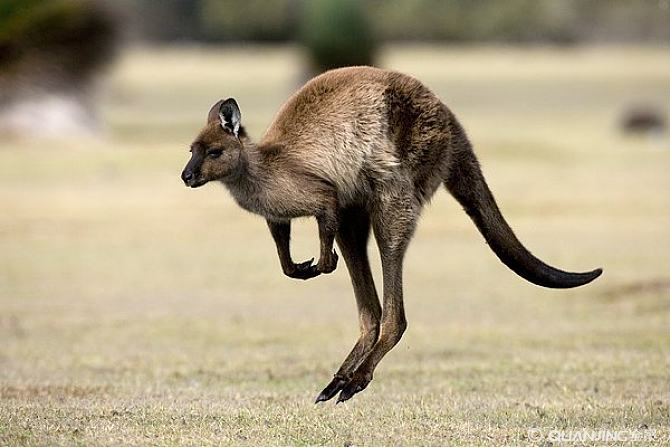kangaroo: (174, 61, 610, 406)
